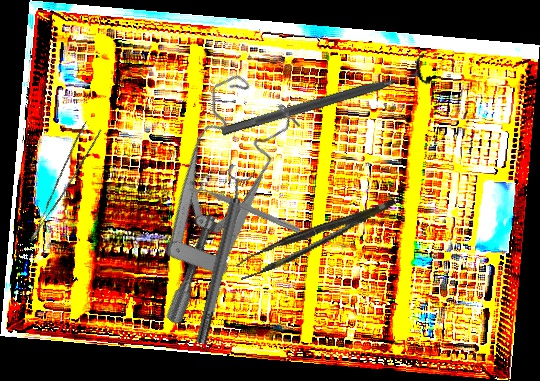Fixation Ring: (216, 52, 434, 147), (185, 163, 258, 347), (184, 170, 306, 238)
Speculum: (77, 61, 338, 328)
Tissue Forceps: (232, 198, 403, 281), (11, 119, 108, 243)
